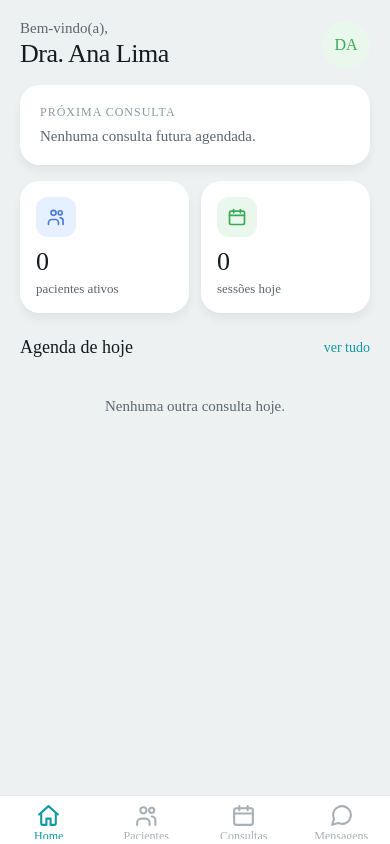
Profissional — Alterar Senha (S5-08) › mostra nome e perfil e mascara os campos de senha
Click the button with test id "home-perfil" at point(64, 28), box [20,20,370,69]
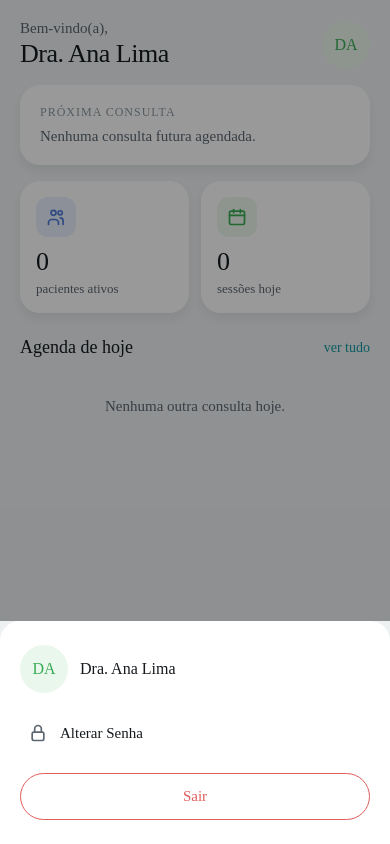
Click the button "Alterar Senha" at point(101, 732), box [20,709,370,757]
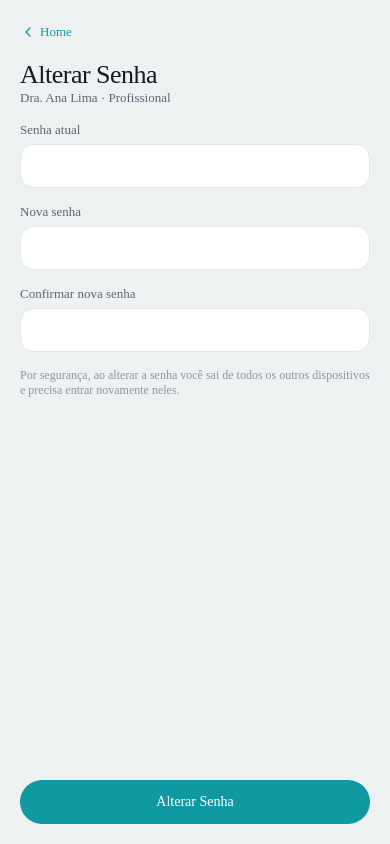
Expected: the heading "Alterar Senha" is shown, [20,60,157,89]
Expected: the text with test id "senha-subtitulo" reads "Dra. Ana Lima · Profissional", [20,90,171,105]
Expected: the text "você sai de todos os outros dispositivos" is shown, [20,368,373,397]
